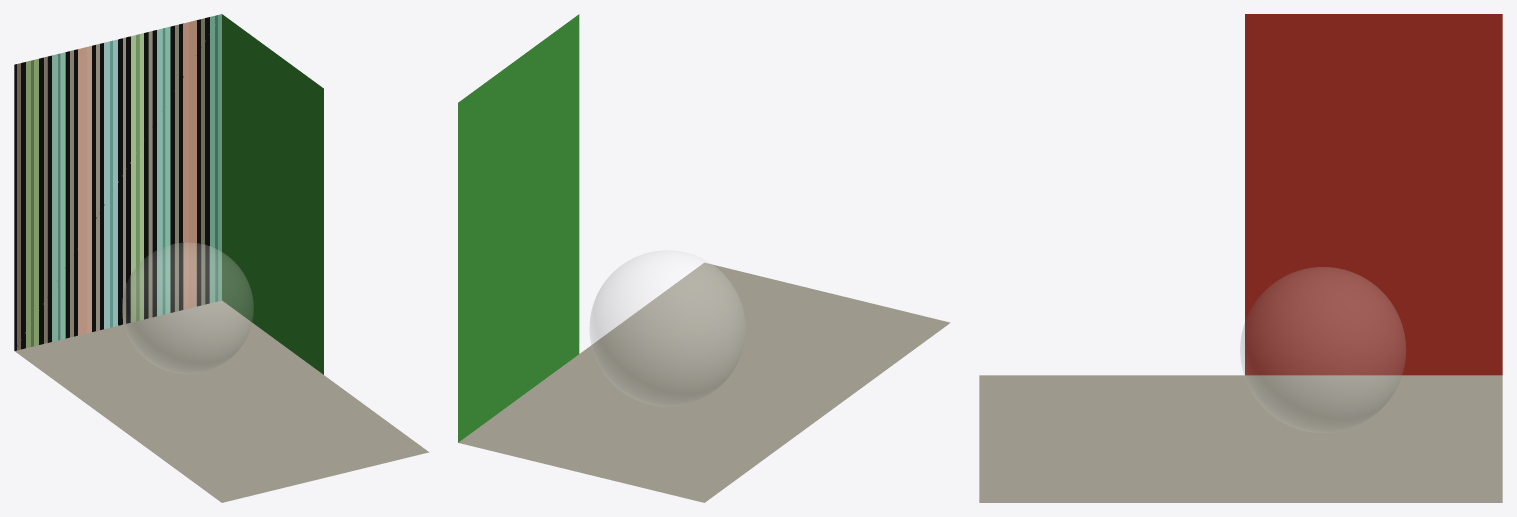
Rendered from WalterGlobe.gltf.
3 views of the same model, side by side, from view 1: azimuth 30°, elevation 25°; view 2: azimuth 150°, elevation 25°; view 3: azimuth 270°, elevation 25° (orthographic). The views are drawn at different scales.
Parts seen in each view (by area): view 1: Striped back wall, Floor, Right green wall, Etched glass globe; view 2: Floor, Right green wall, Etched glass globe; view 3: Left red wall, Floor, Etched glass globe.
Part boxes in pixels (x1,y1,x2,y2): Striped back wall: (14,14,221,350); Floor: (14,300,428,502); Right green wall: (222,14,323,374); Etched glass globe: (122,242,253,373); Floor: (458,262,950,502); Right green wall: (458,14,579,442); Etched glass globe: (589,250,745,406); Left red wall: (1245,14,1502,375); Floor: (979,375,1502,502); Etched glass globe: (1240,267,1405,432).
Bounding box in the file's own units: 3.64 × 4.8 × 6.3.
Materials: 6 (1 with a texture image).
